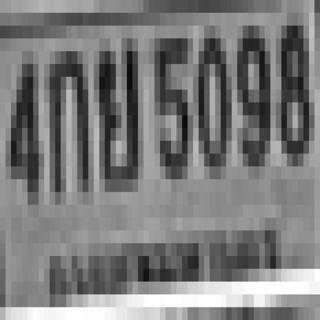A01: (50, 38, 88, 205)
A34: (88, 39, 143, 192)
N00: (188, 26, 232, 166)
N04: (6, 51, 44, 205)
N05: (154, 26, 188, 166)
N08: (270, 13, 309, 154)
N09: (232, 26, 270, 166)
